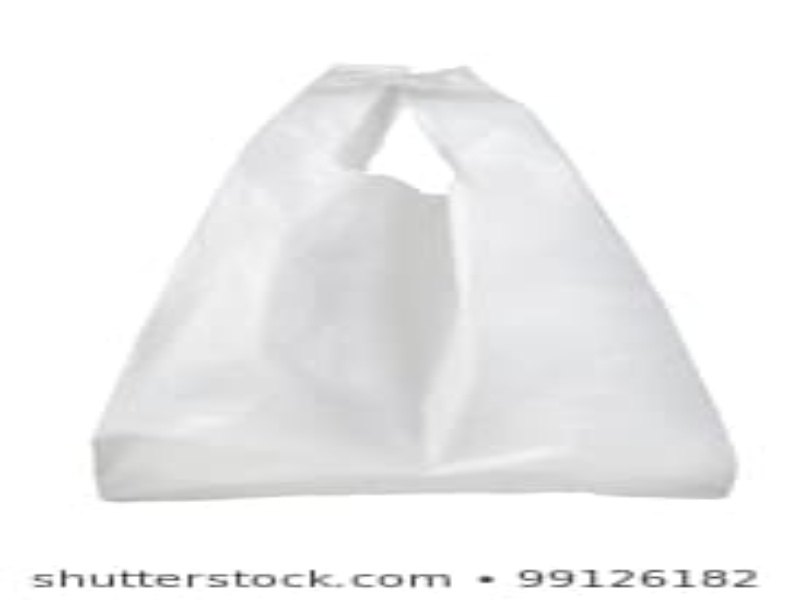plastic-bag: (85, 60, 746, 504)
